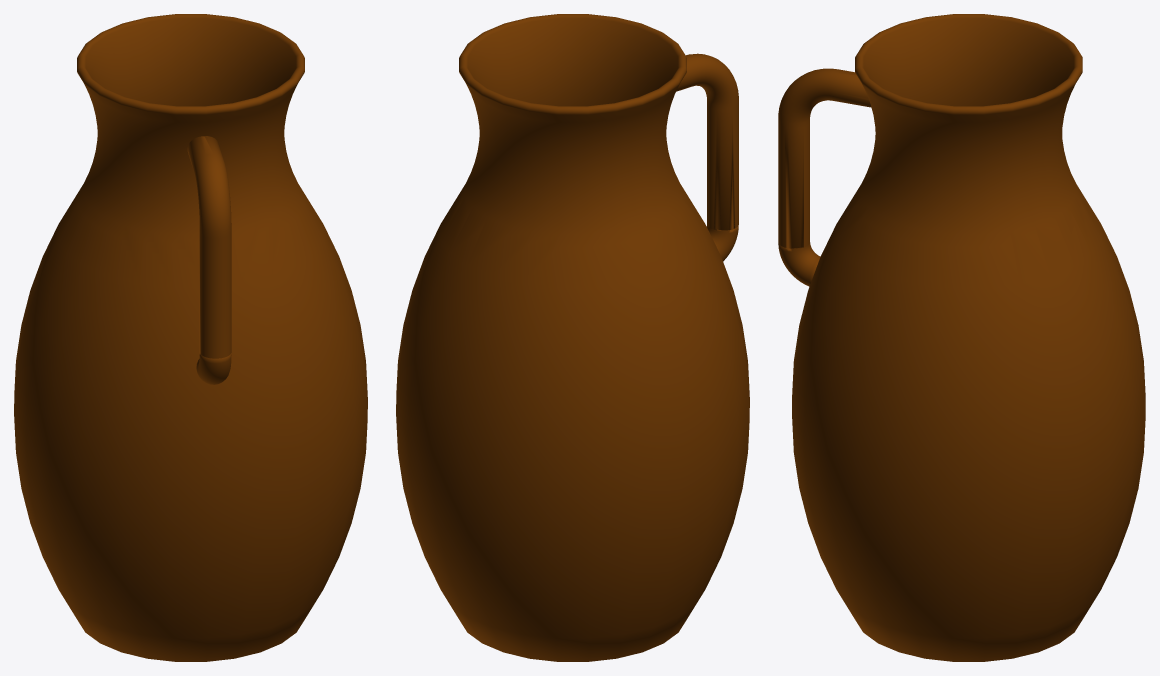
3 views of the same model, side by side, from view 1: azimuth 30°, elevation 25°; view 2: azimuth 150°, elevation 25°; view 3: azimuth 270°, elevation 25° (orthographic).
Parts seen in each view (by area): view 1: mesh1_mesh1-geometry; view 2: mesh1_mesh1-geometry; view 3: mesh1_mesh1-geometry.
Boxes of the visible parts, bbox=[...] form: mesh1_mesh1-geometry: bbox=[14, 14, 367, 661]; mesh1_mesh1-geometry: bbox=[396, 14, 749, 661]; mesh1_mesh1-geometry: bbox=[778, 14, 1145, 661].
Bounding box in the file's own units: 0.4445 × 0.7676 × 0.4618.
